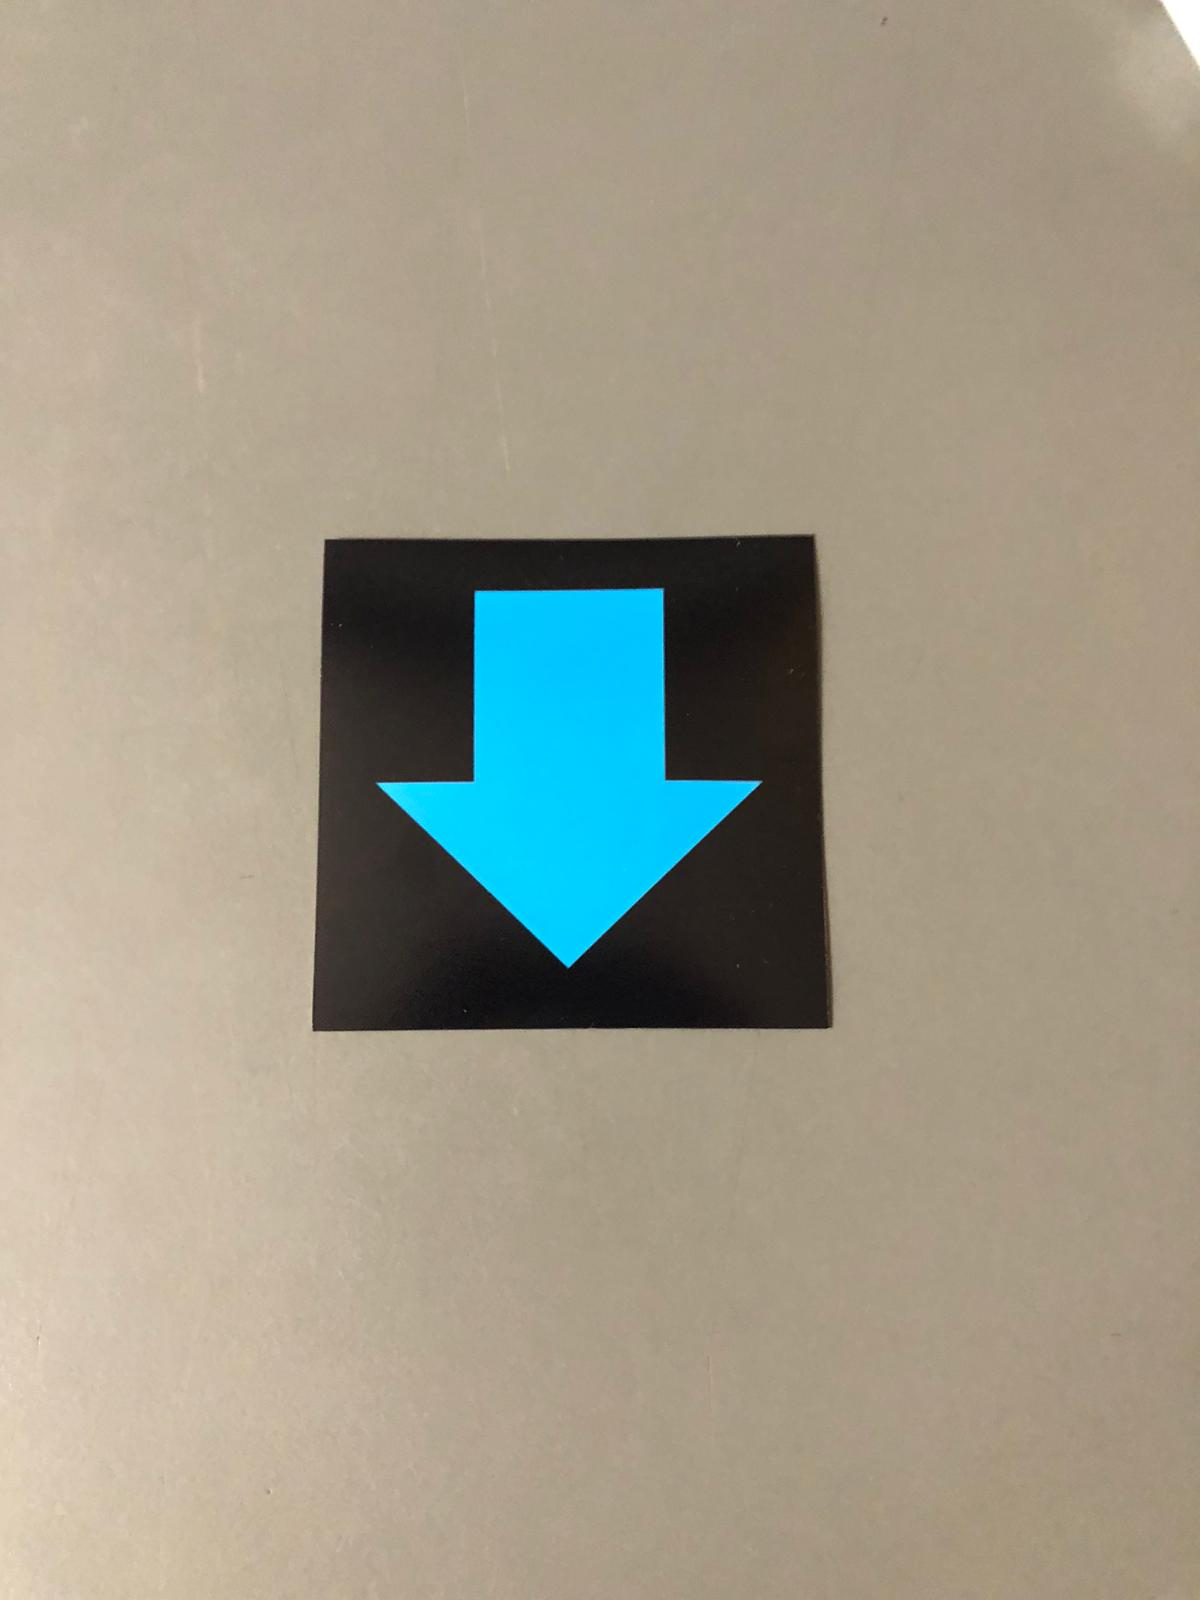Down Arrow: (321, 556, 800, 1015)
